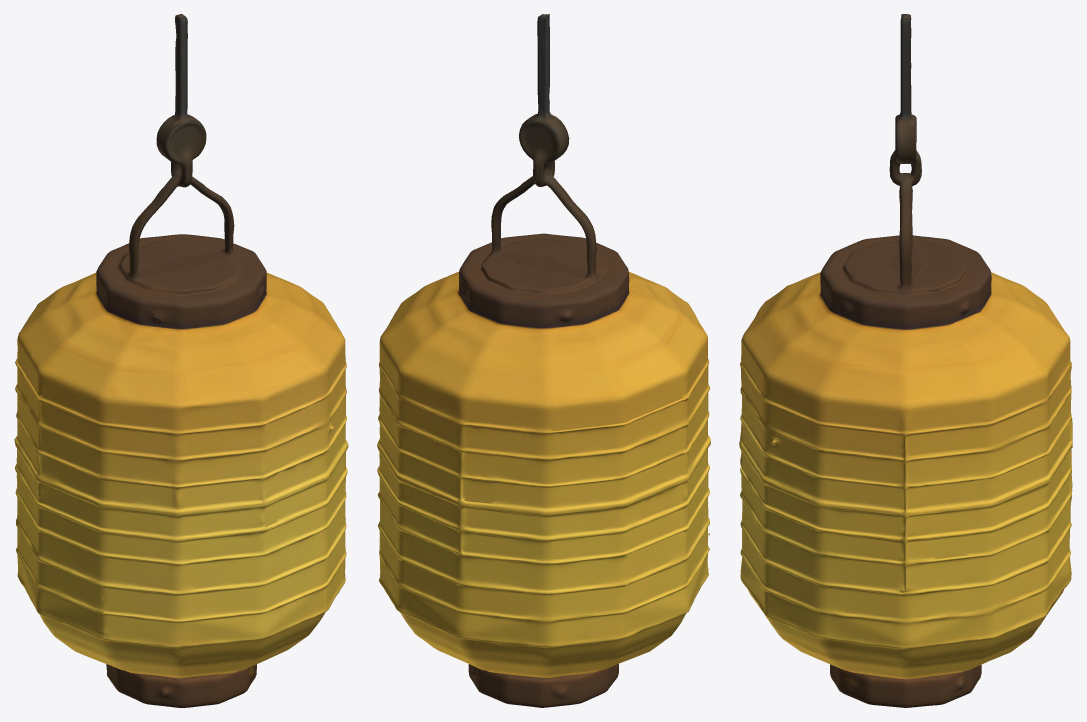
The model's file is paper_lantern_3d_model.fbx.
3 views of the same model, side by side, from view 1: azimuth 30°, elevation 25°; view 2: azimuth 150°, elevation 25°; view 3: azimuth 270°, elevation 25° (orthographic).
Parts seen in each view (by area): view 1: tripo_node_8266a962; view 2: tripo_node_8266a962; view 3: tripo_node_8266a962.
Boxes of the visible parts, x1,y1,x2,y2 form: tripo_node_8266a962: [14, 14, 348, 707]; tripo_node_8266a962: [377, 14, 710, 707]; tripo_node_8266a962: [739, 14, 1072, 707].
Bounding box in the file's own units: 0.4569 × 1 × 0.4561.
